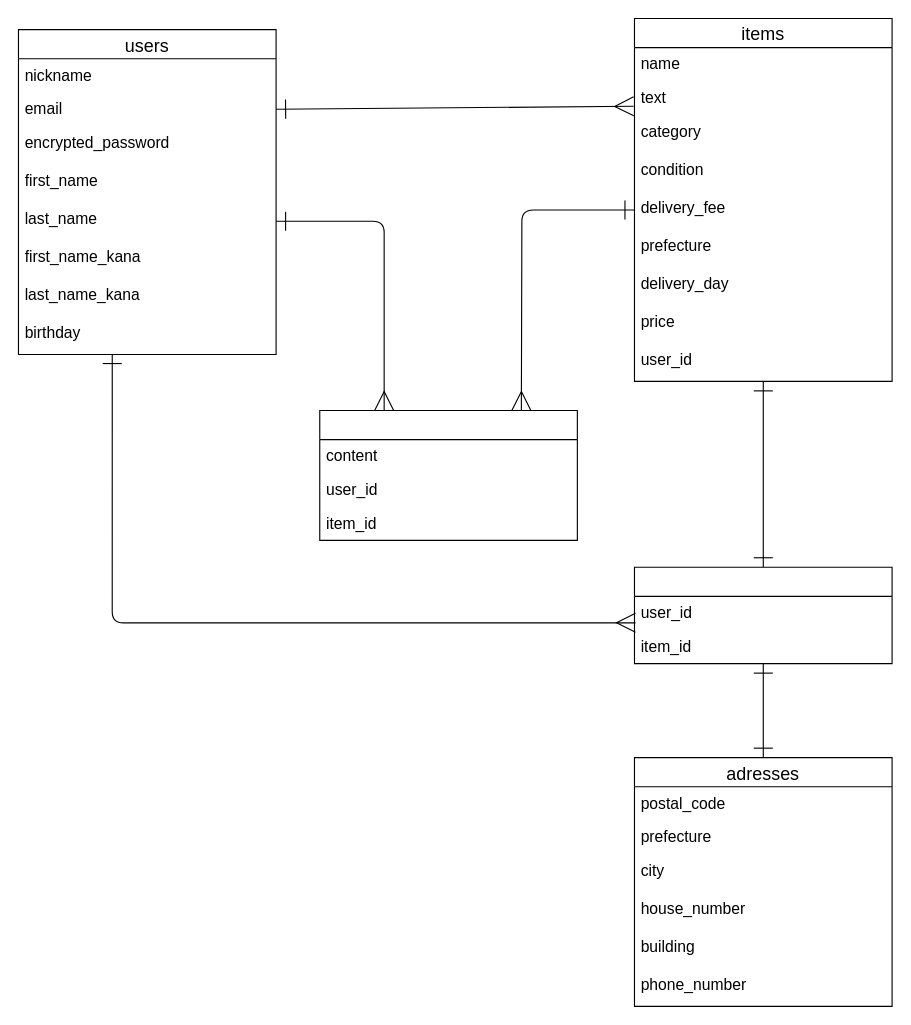
Some shapes in this 911 by 1025 pixel diagram are drawn without their labels. Each missing label, with the box of its shape:
comments: (319, 409, 577, 540)
orders: (633, 566, 892, 664)
